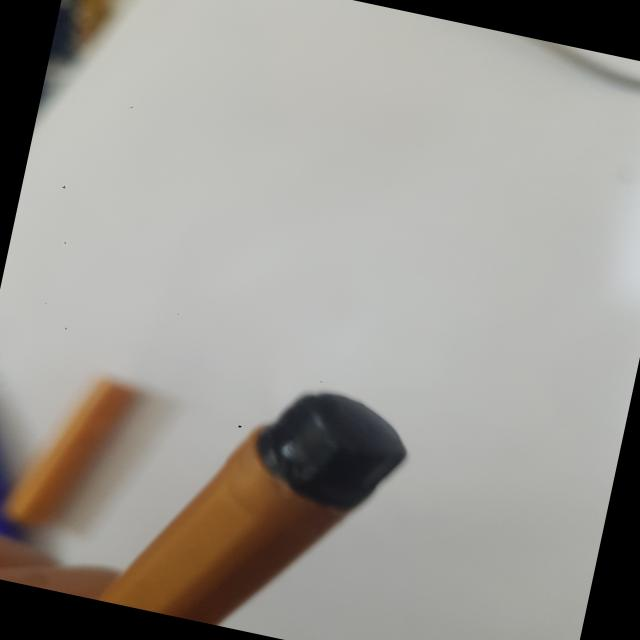general: (74, 346, 417, 640), (0, 360, 140, 546), (0, 385, 56, 543)
